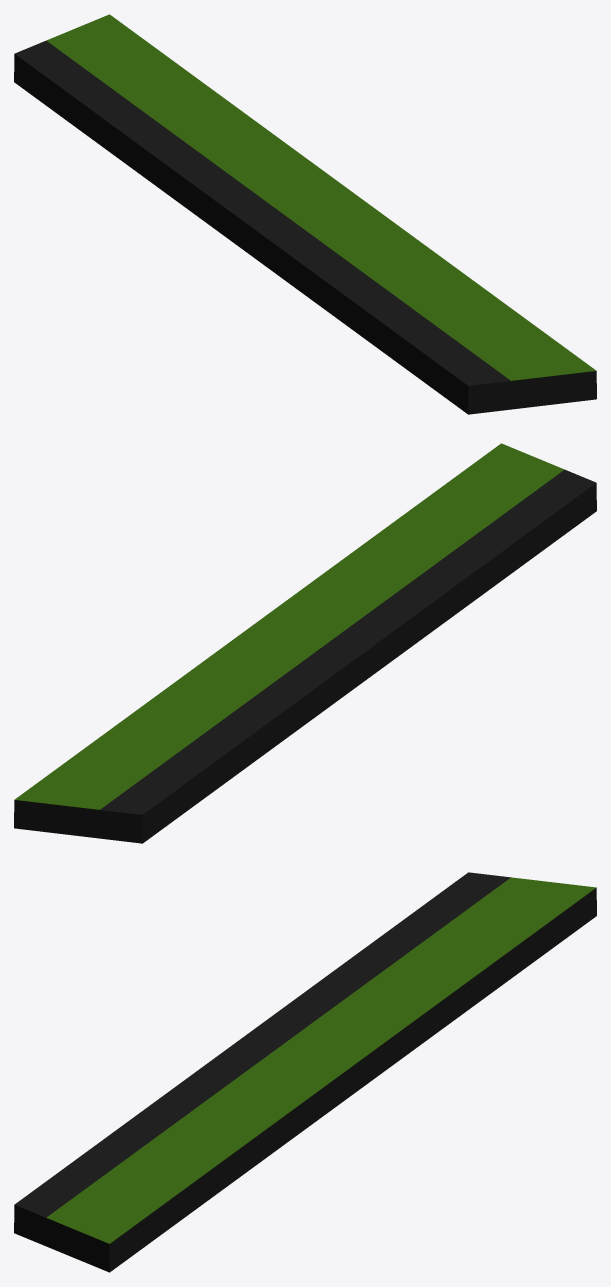
The model's file is W_O_maze_Glassbed_L3.fbx.
3 views of the same model, one above another, from view 1: azimuth 30°, elevation 25°; view 2: azimuth 150°, elevation 25°; view 3: azimuth 330°, elevation 25° (orthographic).
Visible parts, largest first — view 1: W_O_maze_Glassbed_L3; view 2: W_O_maze_Glassbed_L3; view 3: W_O_maze_Glassbed_L3.
Boxes of the visible parts, x1,y1,x2,y2 form: W_O_maze_Glassbed_L3: [14, 14, 596, 414]; W_O_maze_Glassbed_L3: [14, 443, 596, 843]; W_O_maze_Glassbed_L3: [14, 872, 596, 1272].
Size of the model in its own units: 0.8111 by 6.1 by 0.1969.
